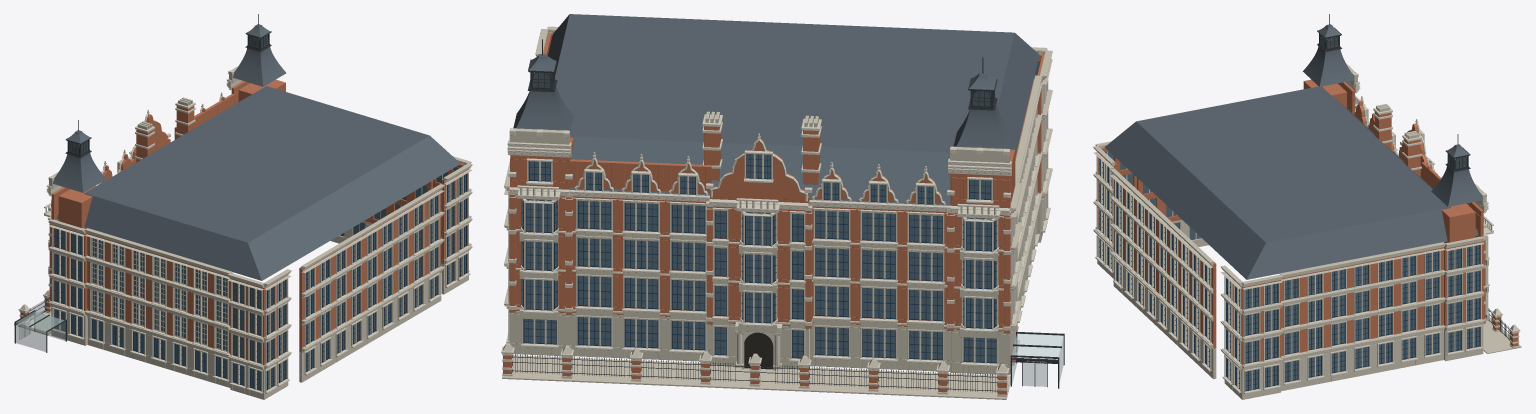
File: sal-exterior-c7cf24b903a7.glb
The picture shows the model from 3 angles, left to right: view 1: azimuth 30°, elevation 25°; view 2: azimuth 150°, elevation 25°; view 3: azimuth 270°, elevation 25°; orthographic projection. The views are drawn at different scales.
Parts seen in each view (by area): view 1: SAL.001; view 2: SAL.001; view 3: SAL.001.
Boxes of the visible parts, x1,y1,x2,y2 form: SAL.001: (14,14,472,399); SAL.001: (501,14,1064,399); SAL.001: (1093,14,1521,399).
Size of the model in its own units: 68.11 by 33.89 by 61.15.
